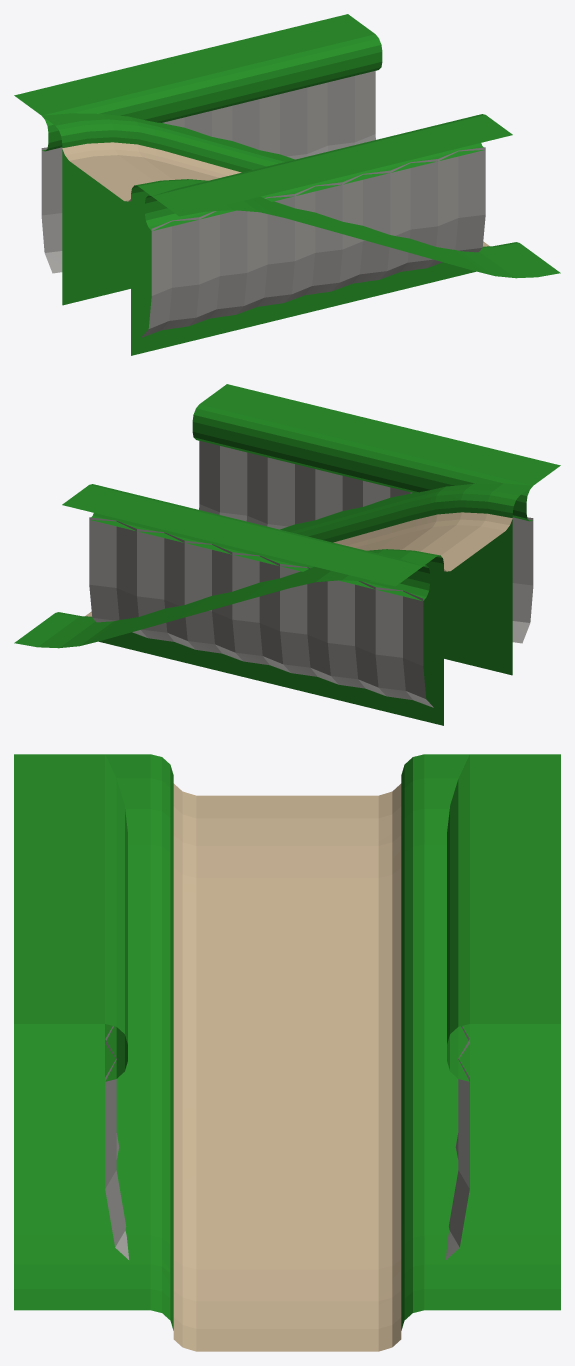
The model's file is Track_Cliff_Incline_Standard_3_Tall_Double.obj.
The picture shows the model from 3 angles, top to bottom: view 1: azimuth 30°, elevation 25°; view 2: azimuth 150°, elevation 25°; view 3: azimuth 270°, elevation 25°; orthographic projection. The views are drawn at different scales.
Visible parts, largest first — view 1: Grass, Rock, Dirt; view 2: Grass, Rock, Dirt; view 3: Grass, Dirt, Rock.
Part boxes in pixels (box(x1,y1,x2,y2)): Grass: box(14, 14, 560, 355); Rock: box(41, 71, 485, 337); Dirt: box(62, 142, 489, 246); Grass: box(14, 384, 560, 725); Rock: box(89, 441, 533, 707); Dirt: box(85, 512, 512, 616); Grass: box(14, 754, 560, 1330); Dirt: box(173, 783, 401, 1351); Rock: box(105, 1026, 469, 1259).
Size of the model in its own units: 8 by 3.5 by 6.
